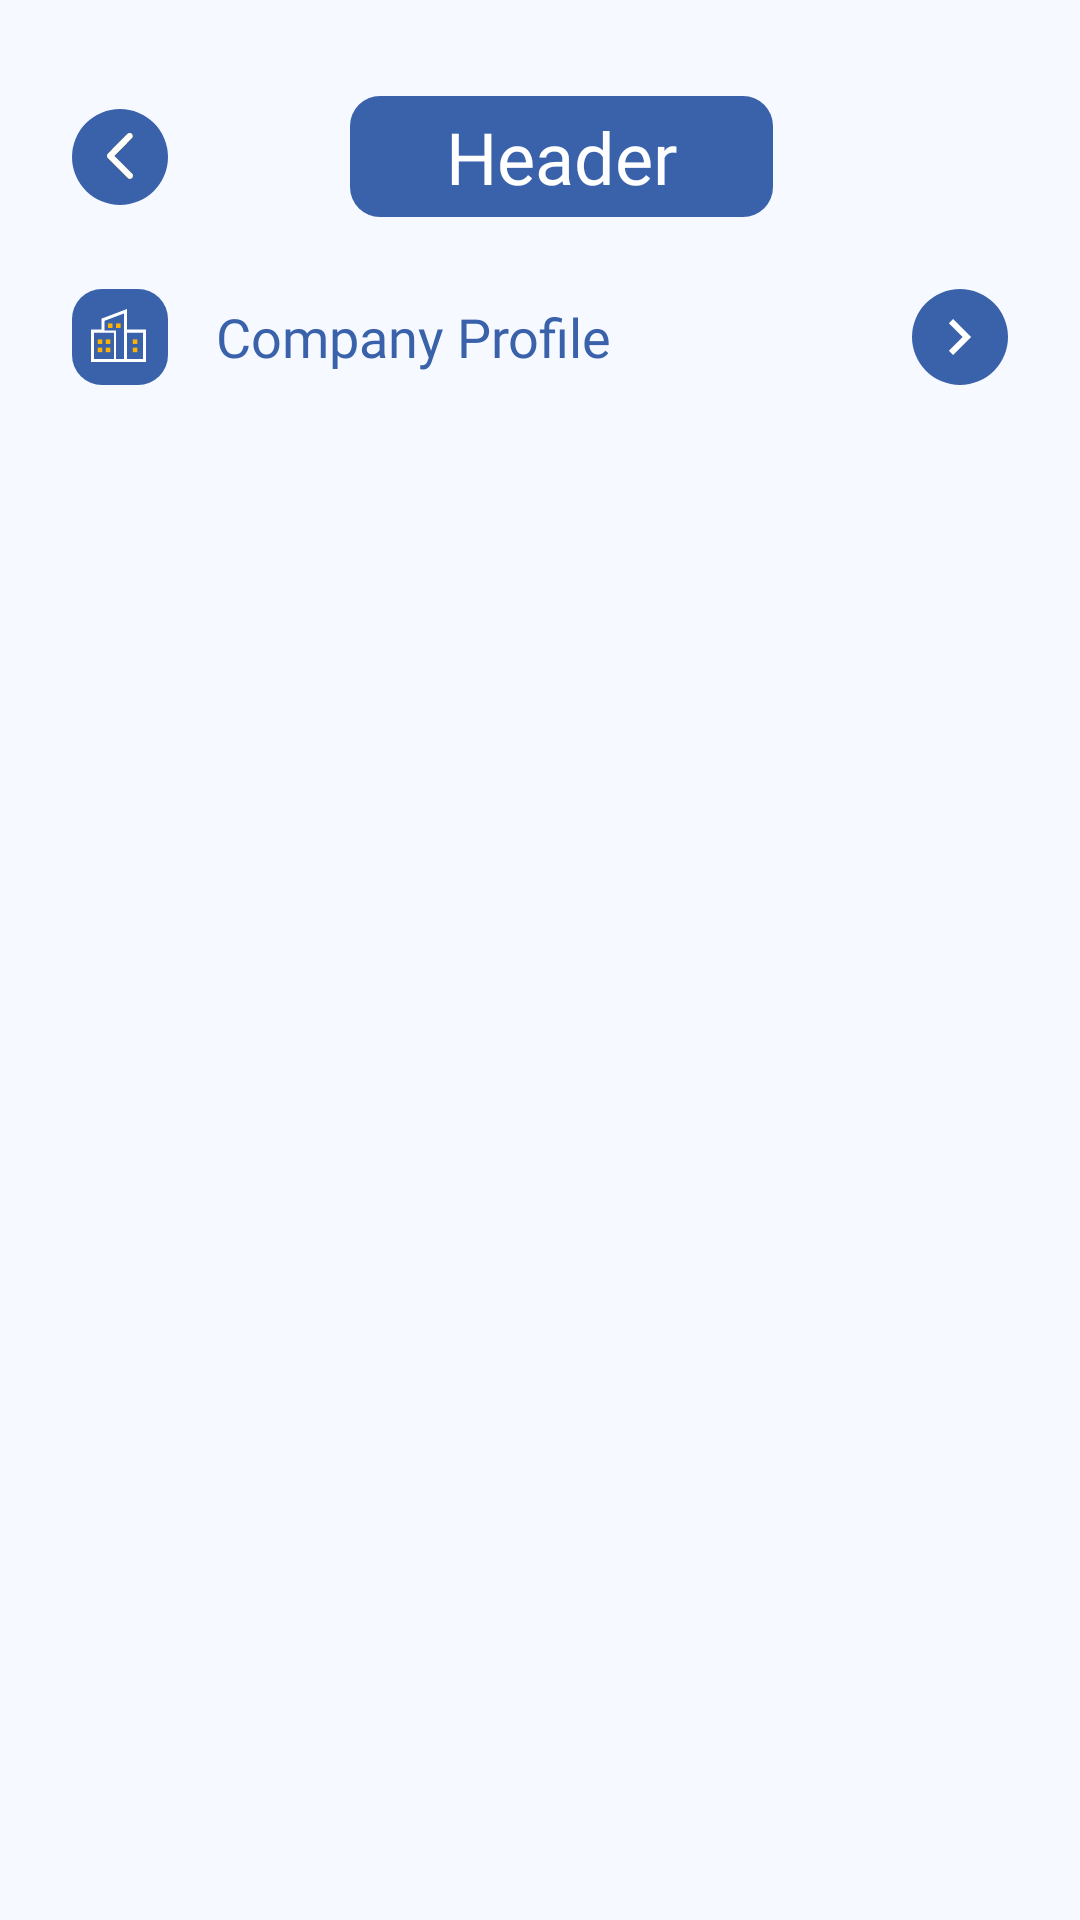

Locate icon controls on the screen. Image size 1080w x 1920h, boxes as detection(x1, y1, x2, y2).
back: detection(72, 109, 168, 205)
chevron right: detection(912, 289, 1008, 385)
